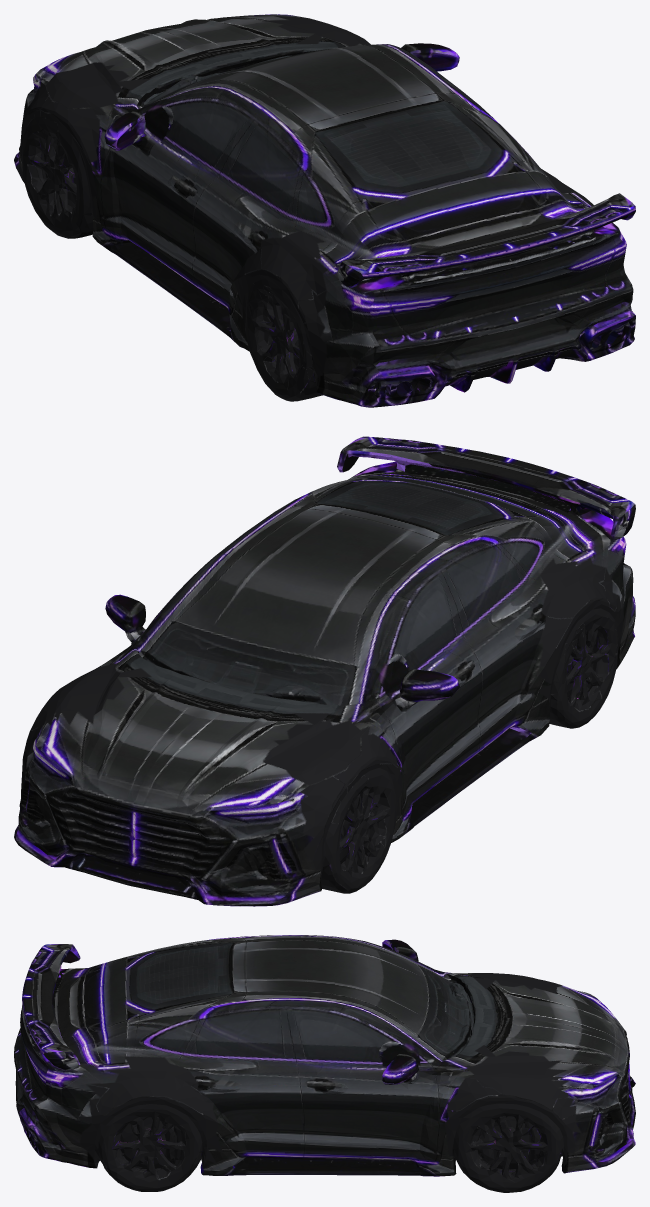
File: gt_sedan.glb
3 views of the same model, one above another, from view 1: azimuth 30°, elevation 25°; view 2: azimuth 150°, elevation 25°; view 3: azimuth 270°, elevation 25° (orthographic). The views are drawn at different scales.
Visible parts, largest first — view 1: gt_sedan_tex; view 2: gt_sedan_tex; view 3: gt_sedan_tex.
Boxes of the visible parts, x1,y1,x2,y2 form: gt_sedan_tex: (14,14,635,407); gt_sedan_tex: (14,436,635,906); gt_sedan_tex: (14,935,635,1192).
Bounding box in the file's own units: 2.33 × 1.36 × 4.5.
Materials: 1 (1 with a texture image).
